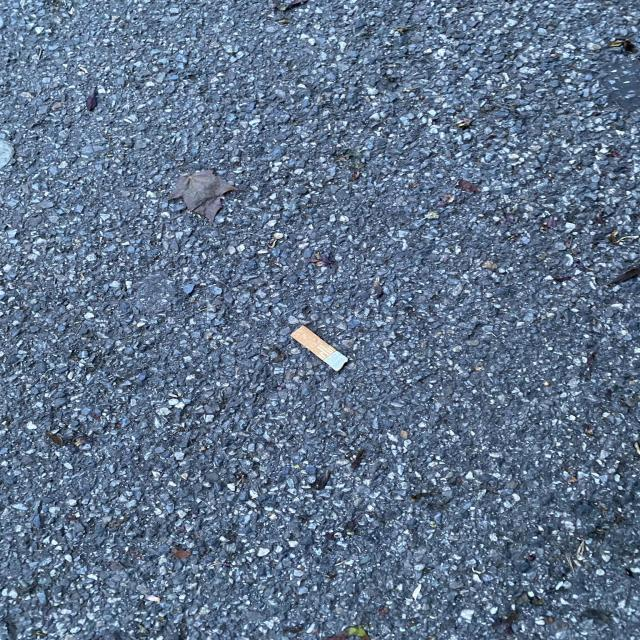other waste: (290, 324, 348, 372)
